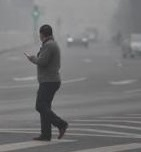person: (24, 22, 71, 142)
